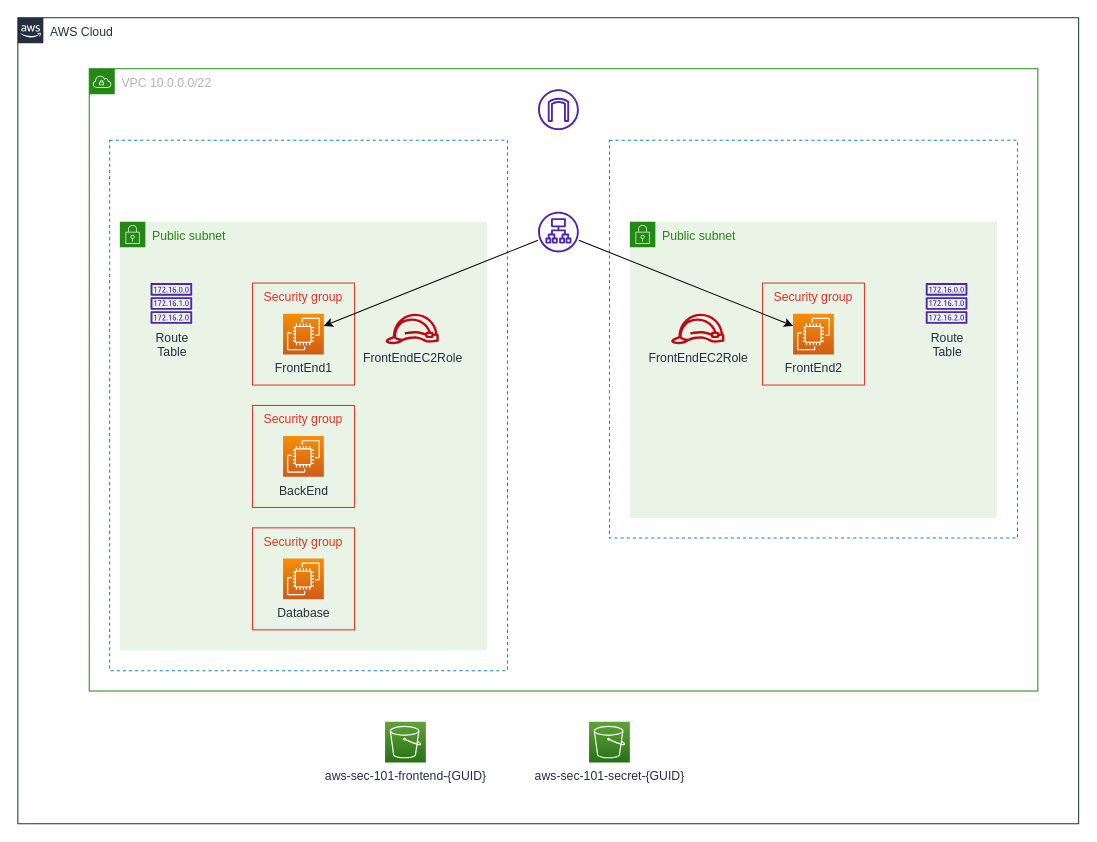
The diagram is 1097 pixels wide and 842 high, and some of its shapes have lost their labels. Each missing label, with the box of its shape:
ALB: (538, 211, 578, 252)
Availability Zone us-west-2a: (109, 139, 507, 671)
Availability Zone us-west-2b: (608, 139, 1017, 538)
IGW: (538, 89, 578, 130)
